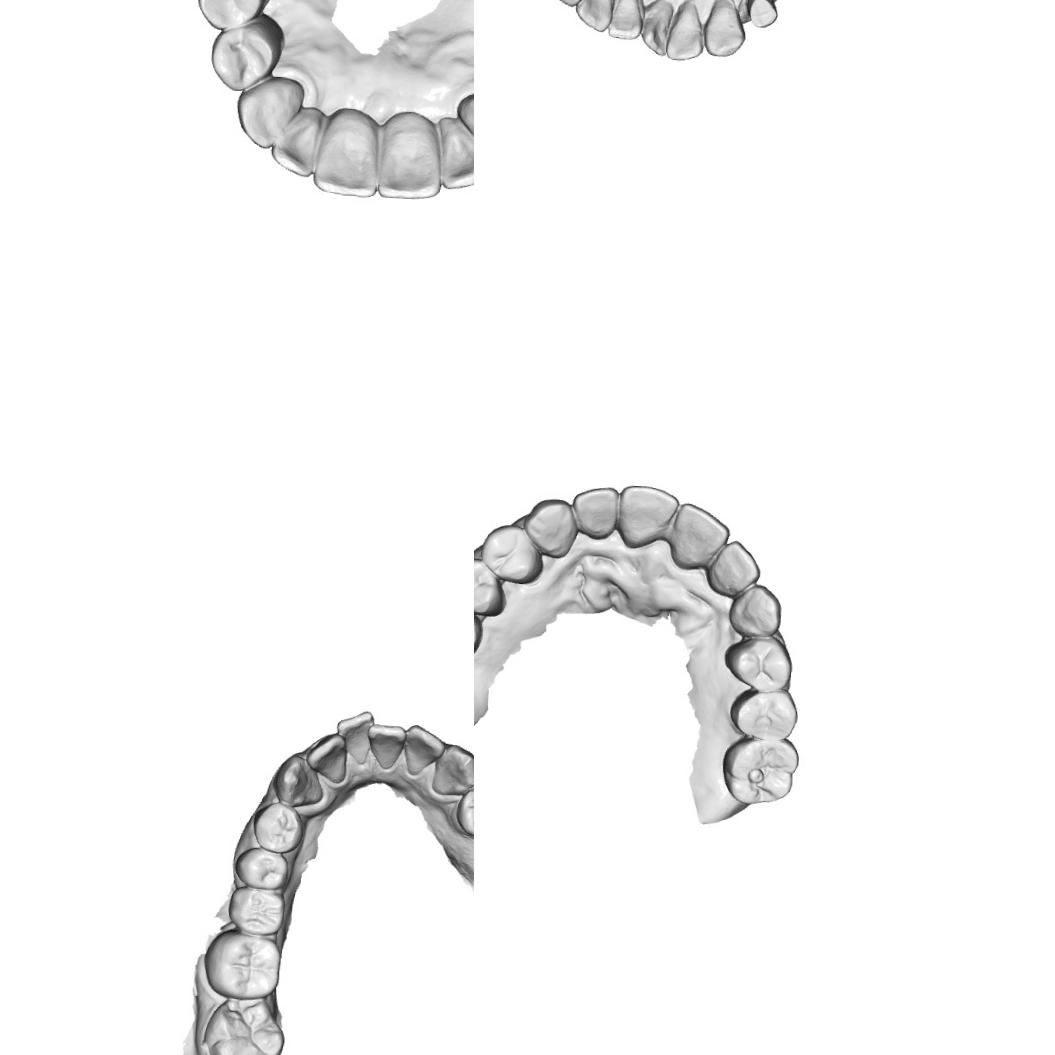abutment: (743, 0, 780, 30)
canine: (233, 72, 306, 151), (520, 496, 579, 559), (726, 582, 783, 638), (272, 752, 326, 809), (701, 0, 748, 58), (430, 741, 474, 797), (454, 84, 474, 168)
incisor: (310, 105, 386, 199), (373, 109, 446, 202), (266, 102, 327, 182), (668, 500, 732, 573), (614, 482, 680, 550), (703, 537, 762, 598), (434, 116, 474, 191), (569, 484, 620, 541), (665, 0, 707, 62), (303, 730, 349, 784), (333, 708, 375, 766), (402, 722, 446, 777), (636, 0, 674, 57), (365, 722, 407, 770), (605, 0, 645, 41), (572, 0, 616, 33)
molar: (201, 926, 282, 1002), (719, 734, 800, 808), (198, 994, 287, 1055), (226, 884, 287, 936)
premolar: (210, 20, 284, 95), (724, 634, 794, 693), (727, 687, 800, 742), (480, 523, 540, 584), (250, 800, 306, 854), (232, 844, 290, 891), (193, 0, 274, 33), (474, 554, 507, 618), (454, 783, 474, 840)
